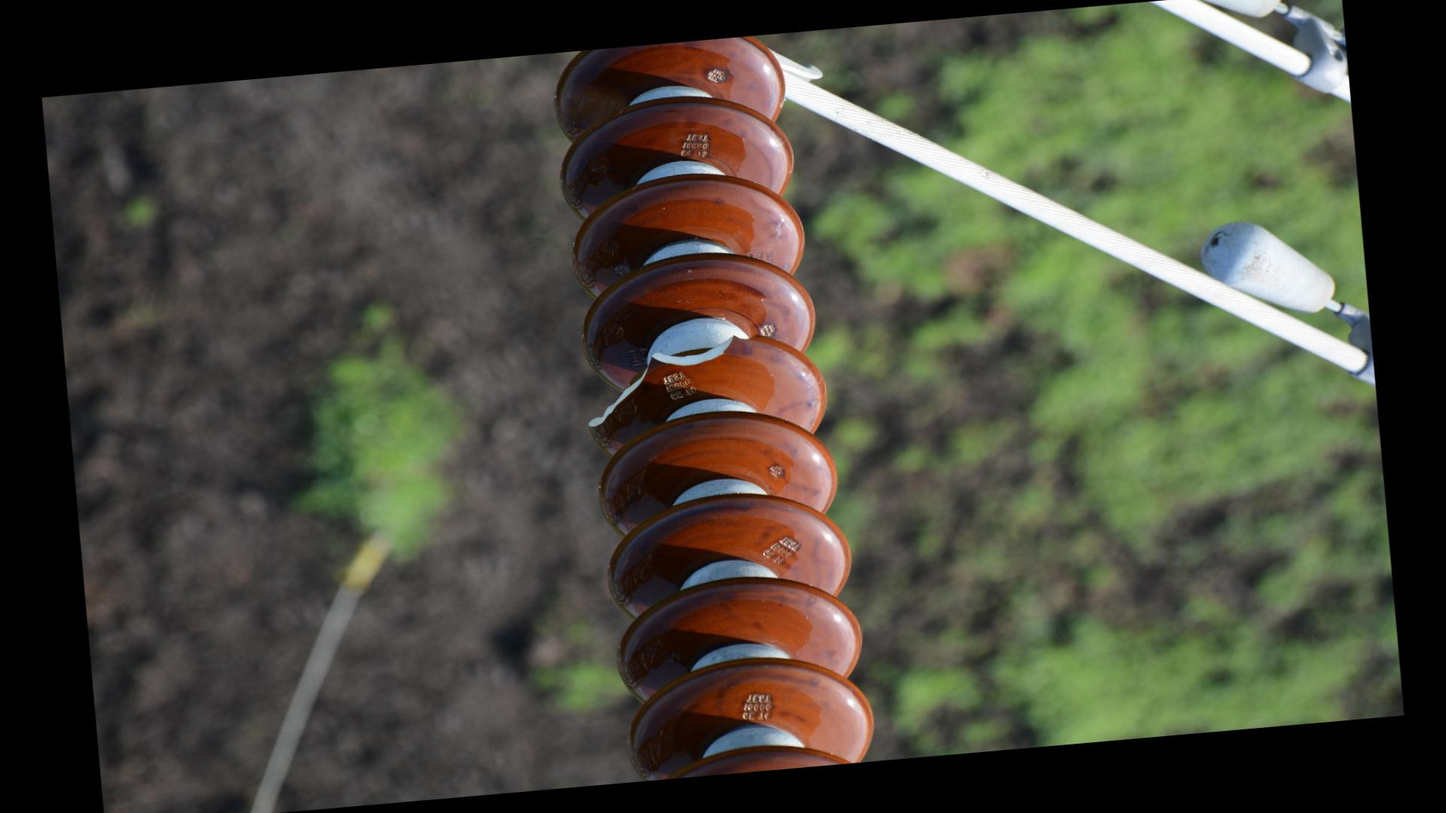damper: (1188, 202, 1376, 409)
